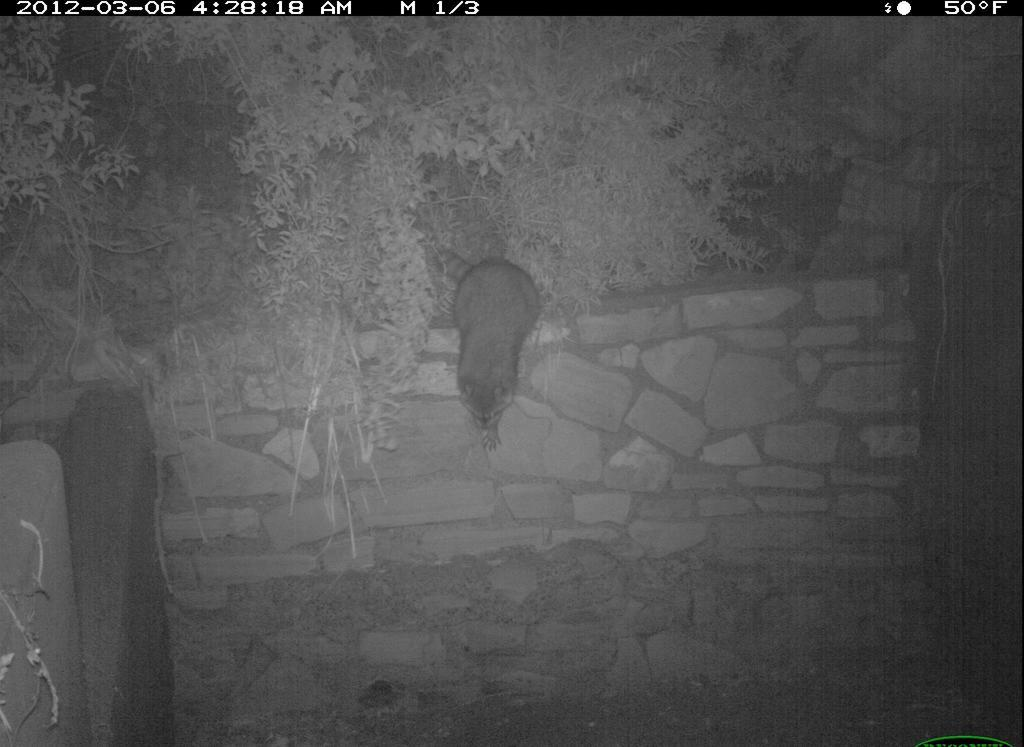raccoon: (405, 209, 557, 470)
